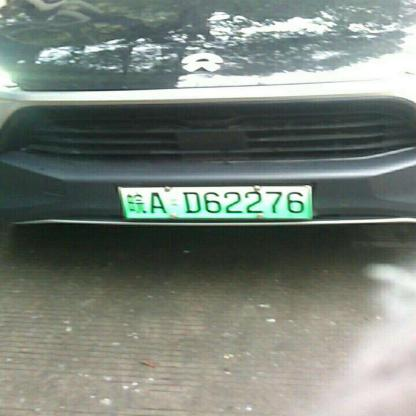lp: (117, 186, 311, 219)
